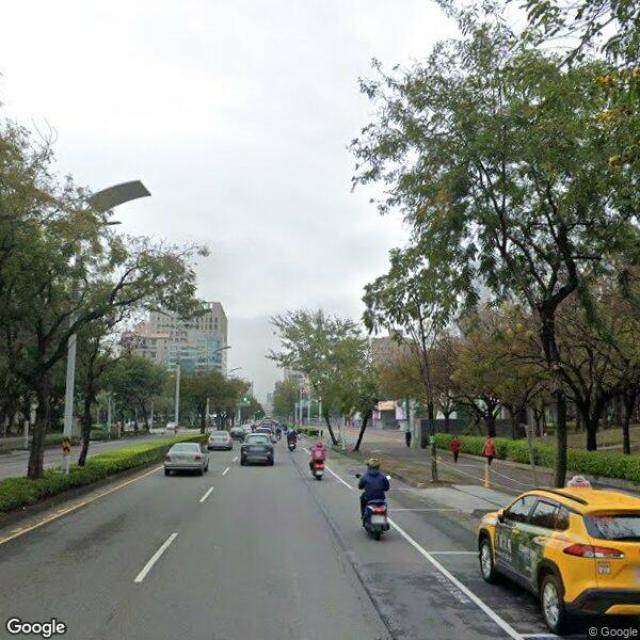Legalparking: (464, 479, 640, 640)
illegalparking: (241, 438, 288, 474)
